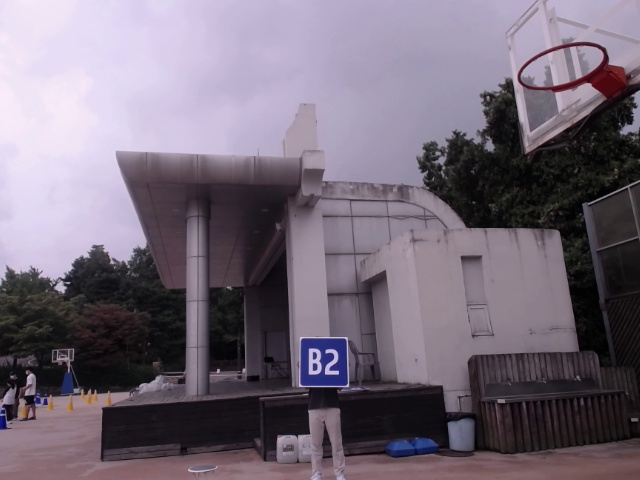delivery_b2: (301, 337, 349, 385)
